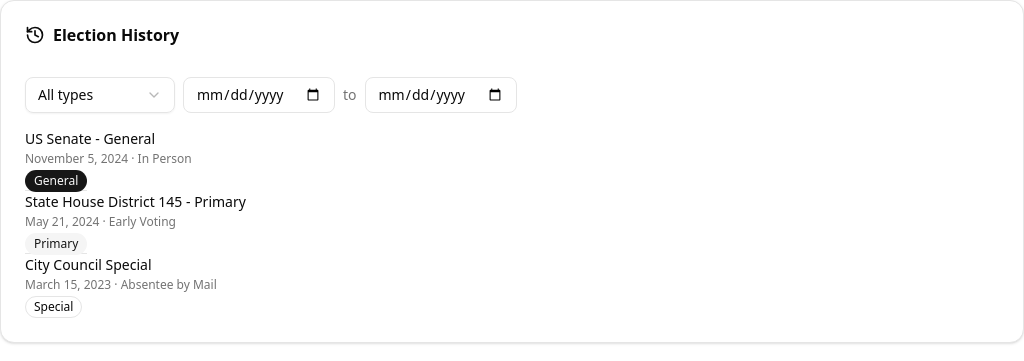
Scenario: VoterHistoryCard › shows no-match message when date range excludes all records
# Set date range that excludes everything
In the date field named "Date from": (259, 95) [183,77,335,113], type "2030-01-01"
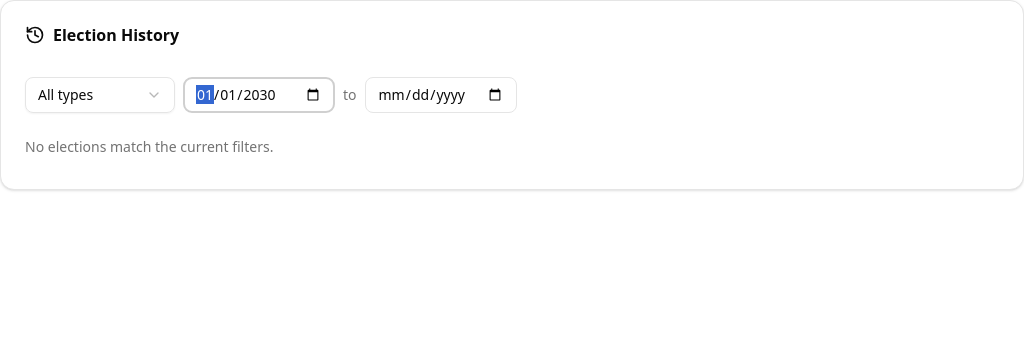
Result: the text "No elections match the current filters." is shown at [25,137,273,156]
